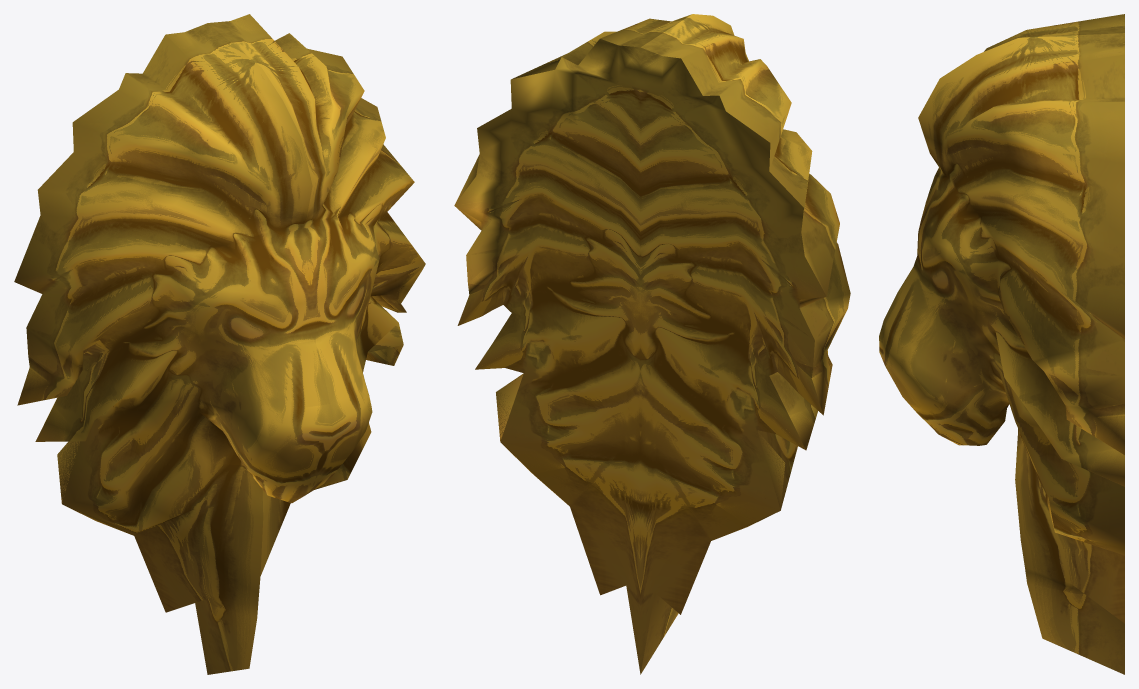
File: lion_fee3686d.glb
3 views of the same model, side by side, from view 1: azimuth 30°, elevation 25°; view 2: azimuth 150°, elevation 25°; view 3: azimuth 270°, elevation 25° (orthographic). The views are drawn at different scales.
Parts seen in each view (by area): view 1: Object_2; view 2: Object_2; view 3: Object_2.
Part boxes in pixels (left/top/right/bottom): Object_2: left=14, top=14, right=425, bottom=674; Object_2: left=454, top=14, right=850, bottom=674; Object_2: left=879, top=14, right=1124, bottom=674.
Size of the model in its own units: 3.91 by 6.29 by 2.18.
1 material, 1 textured.
